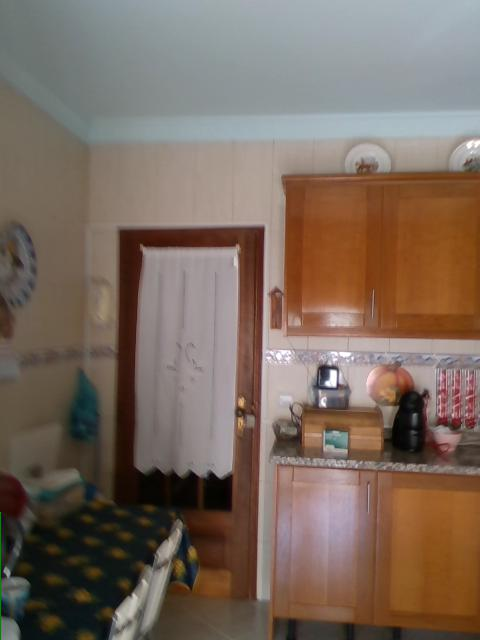door: (117, 224, 263, 597)
